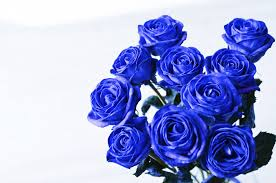lale: (147, 105, 205, 177), (175, 65, 237, 123), (204, 124, 260, 183), (86, 73, 140, 131), (104, 43, 163, 93), (140, 10, 196, 61), (226, 11, 274, 60), (208, 49, 262, 91), (101, 123, 149, 168), (161, 43, 205, 89)
